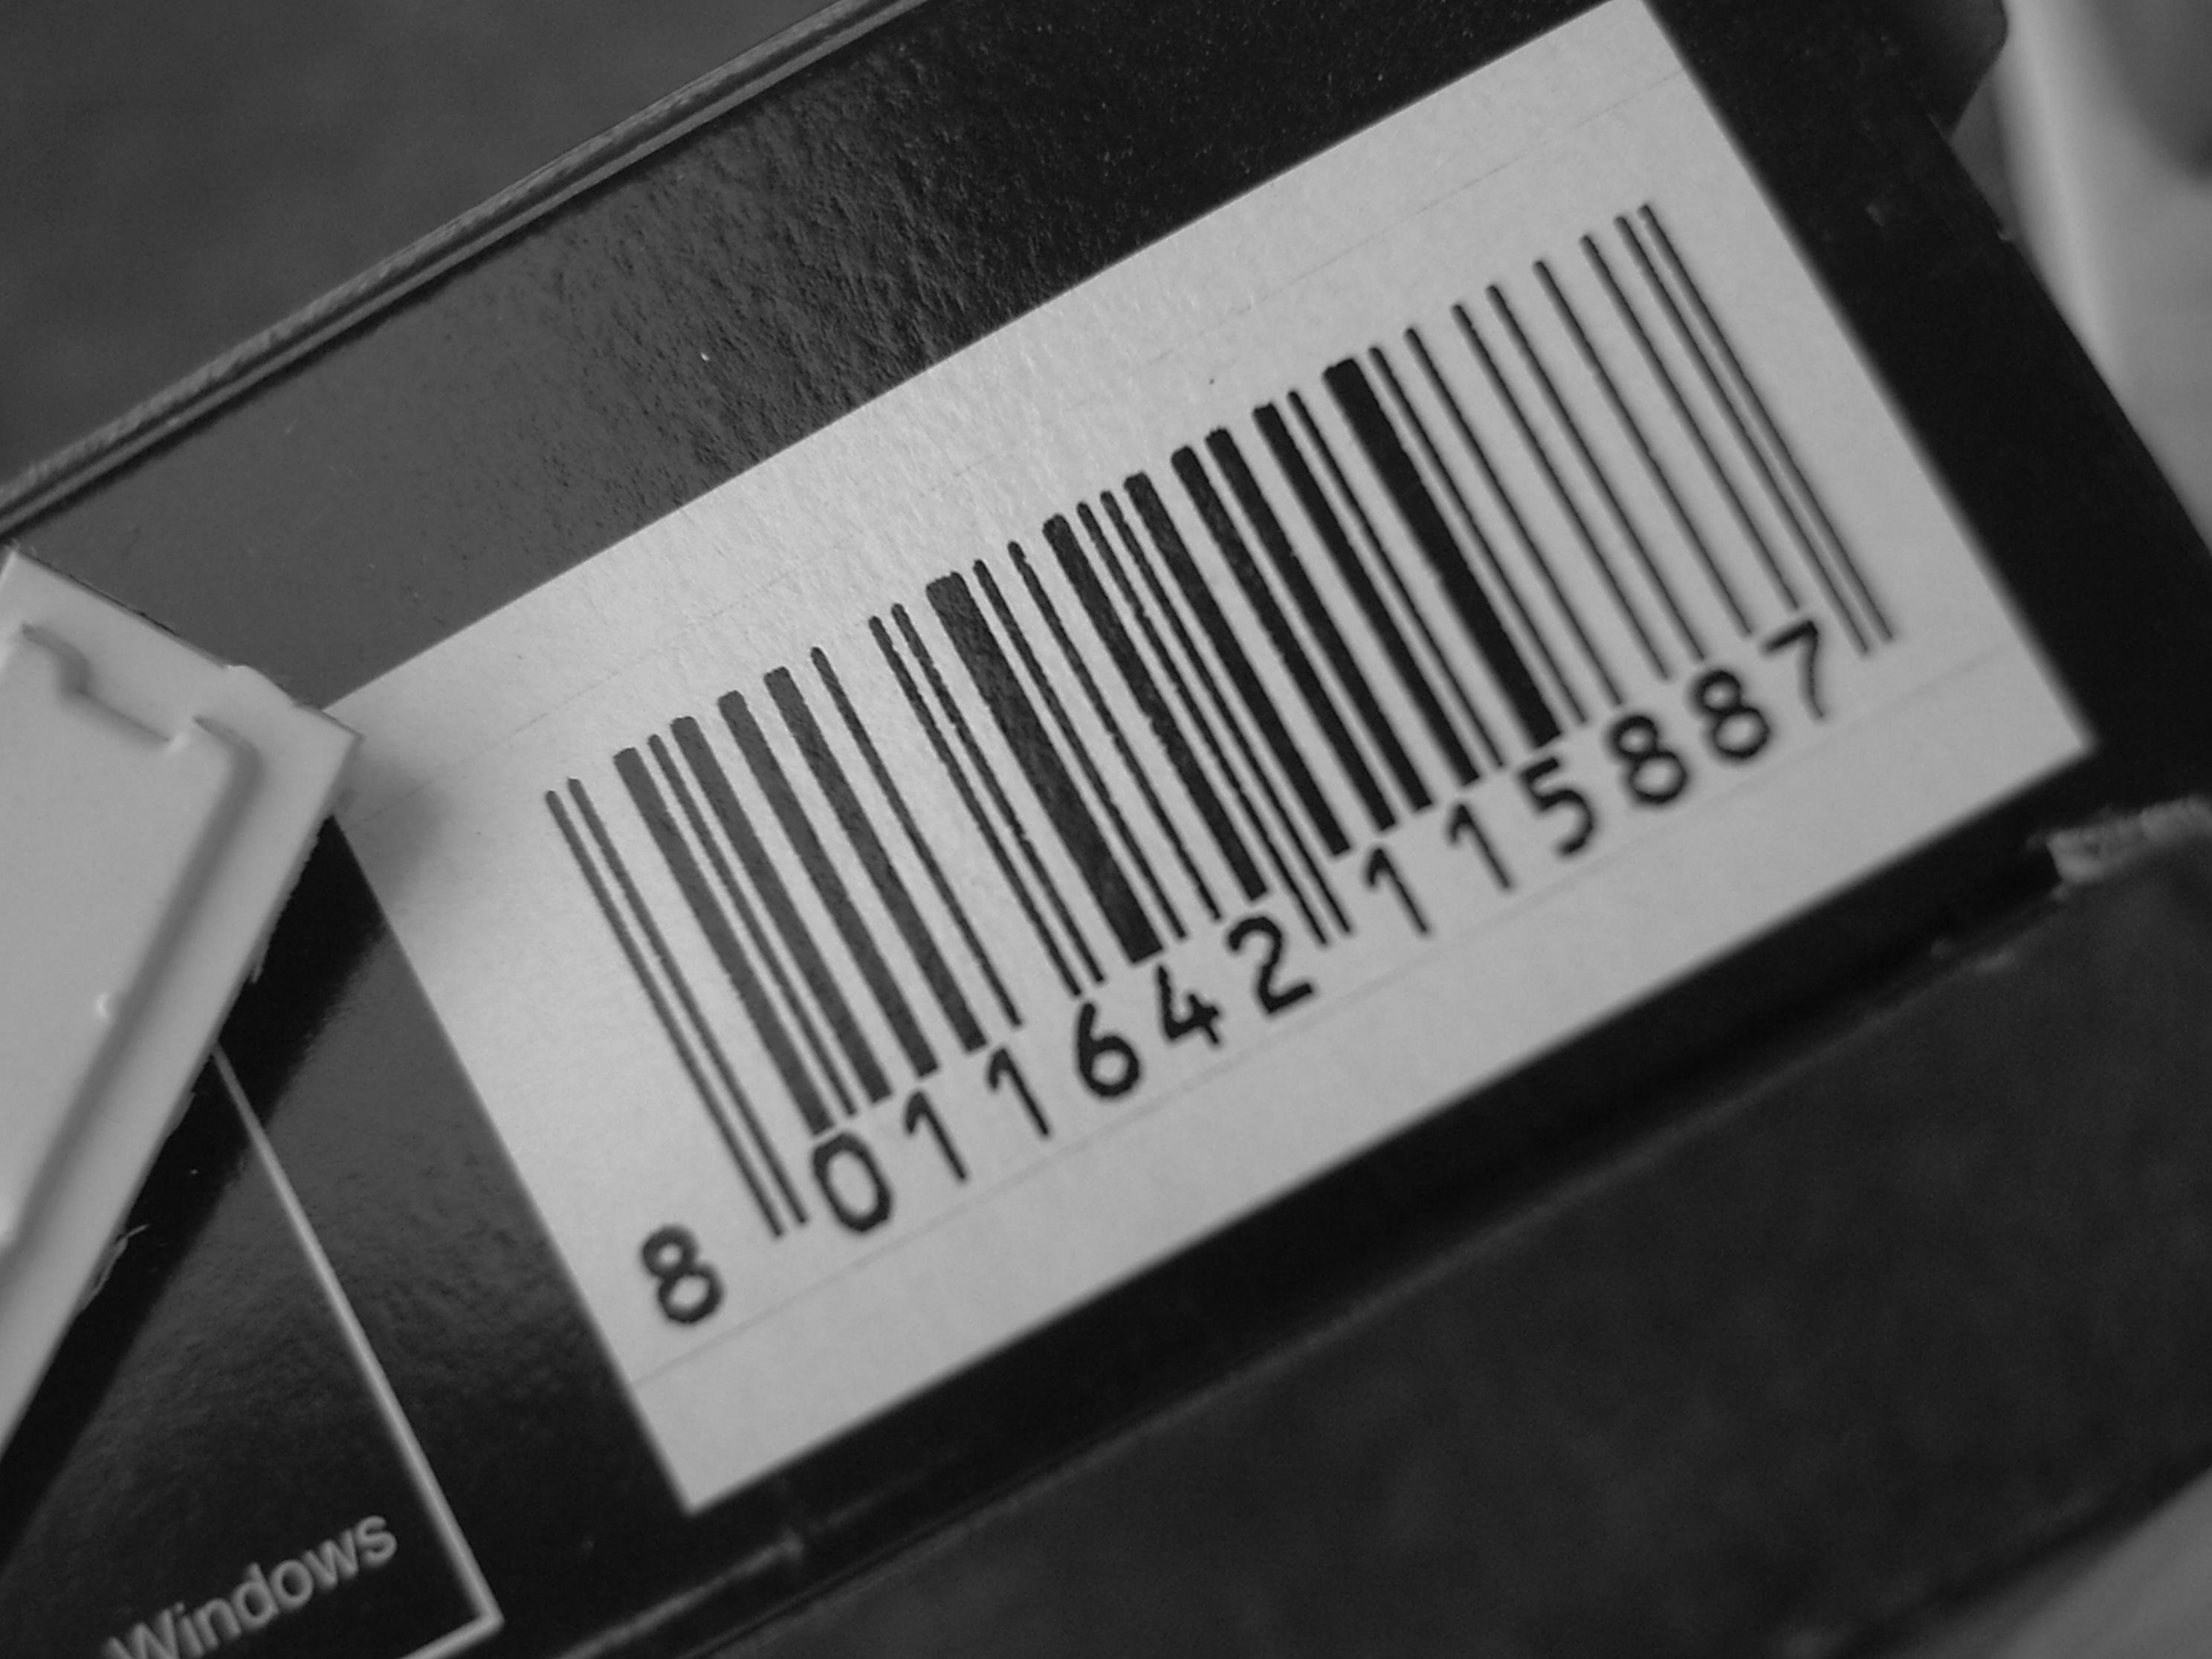Barcode: (537, 161, 1904, 1258)
